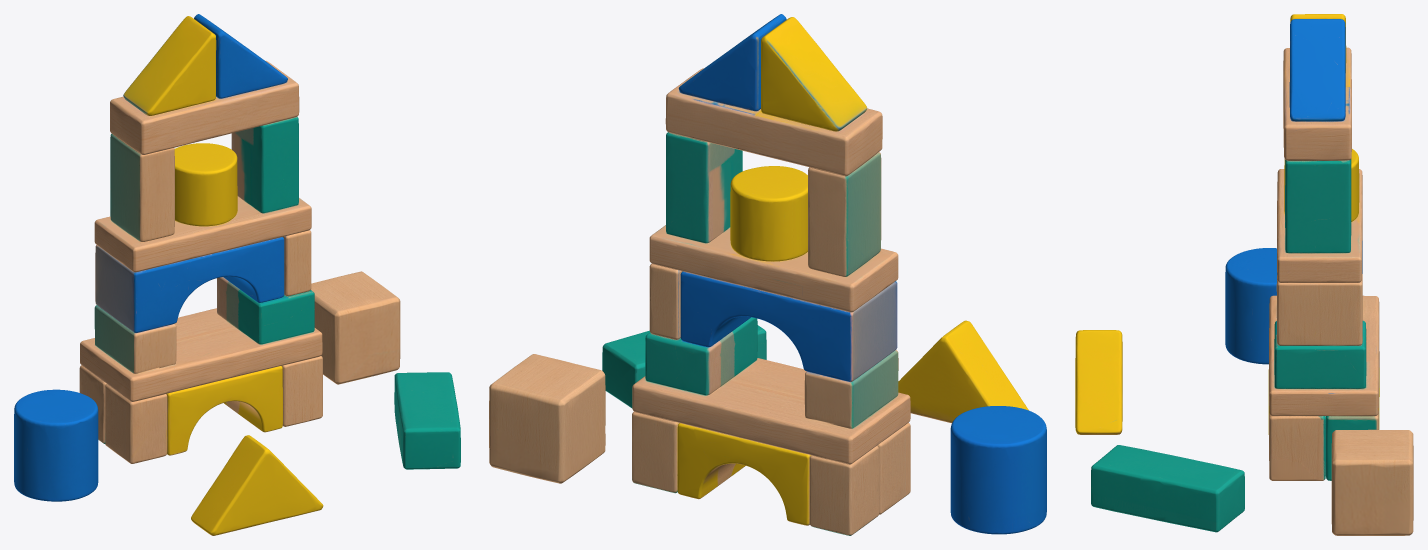
File: wooden_block_tower.glb
The picture shows the model from 3 angles, left to right: view 1: azimuth 30°, elevation 25°; view 2: azimuth 150°, elevation 25°; view 3: azimuth 270°, elevation 25°; orthographic projection. The views are drawn at different scales.
Size of the model in its own units: 1.9 by 1.77 by 1.3.
Materials: 1 (1 with a texture image).
